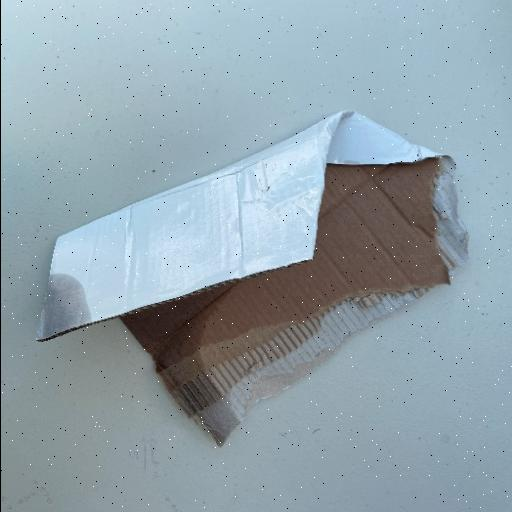Cardboard: (35, 108, 471, 448)
